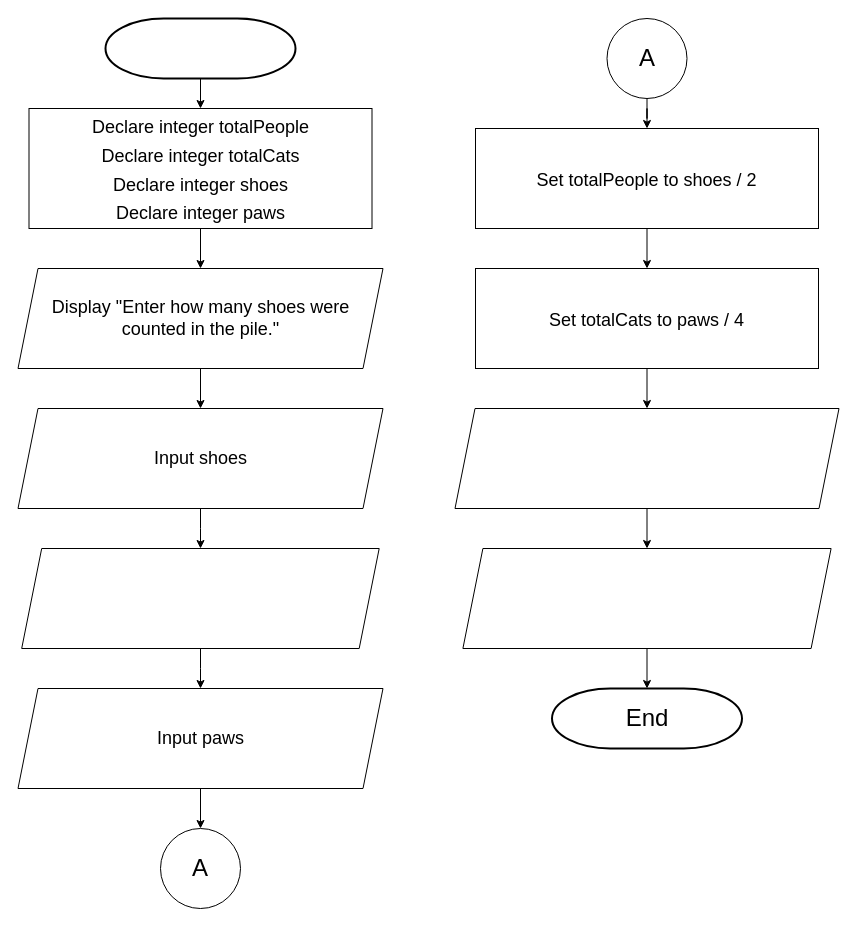
Image size: 856x926. Some labels were removed from this diagram. The box of each missing label's shape, as (x1, y1, x2, y2) in pixels:
Display "Enter how many paws were counted in the pile.": (21, 548, 379, 648)
Display "The number of cats in the room were: ", totalCats: (462, 548, 831, 648)
Display "The number of people in the room were: ", totalPeople: (454, 408, 839, 508)
Start: (104, 17, 296, 79)
